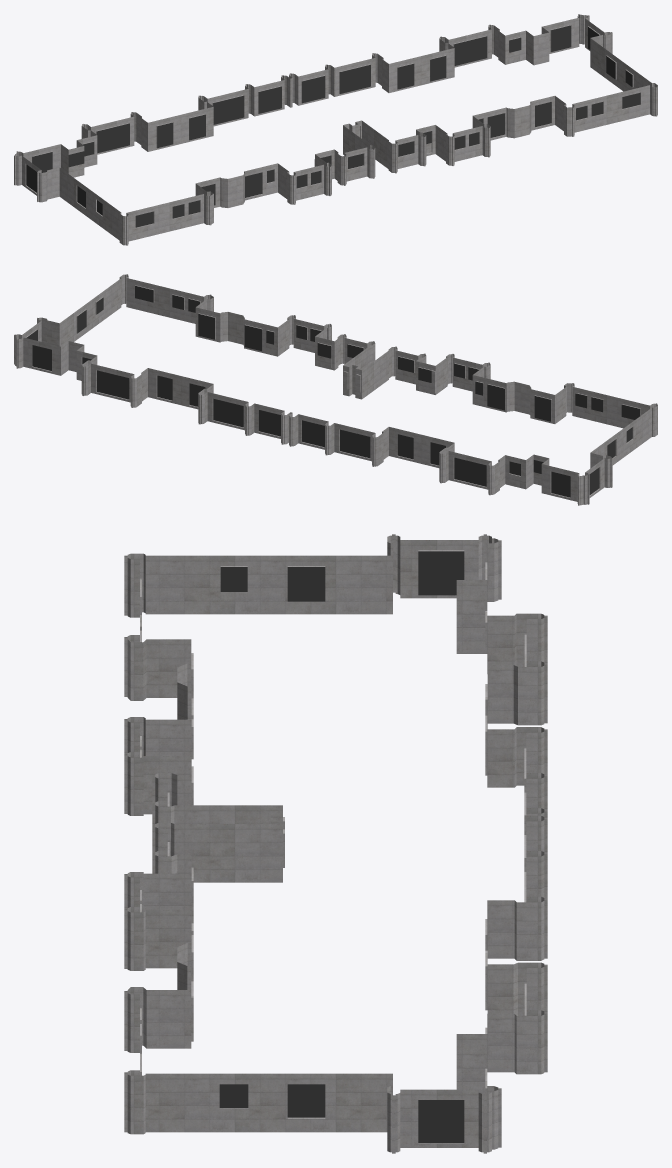
The model's file is BLD-2-7F.FBX.
3 renders of one model, top to bottom at view 1: azimuth 30°, elevation 25°; view 2: azimuth 150°, elevation 25°; view 3: azimuth 270°, elevation 25°, orthographic. The views are drawn at different scales.
Visible parts, largest first — view 1: BLD-2-Exterior-Type-1-005; view 2: BLD-2-Exterior-Type-1-005; view 3: BLD-2-Exterior-Type-1-005.
Part boxes in pixels (left/top/right/bottom): BLD-2-Exterior-Type-1-005: left=14, top=14, right=657, bottom=245; BLD-2-Exterior-Type-1-005: left=14, top=274, right=657, bottom=505; BLD-2-Exterior-Type-1-005: left=124, top=534, right=547, bottom=1153.
Size of the model in its own units: 43.78 by 2.13 by 13.95.
